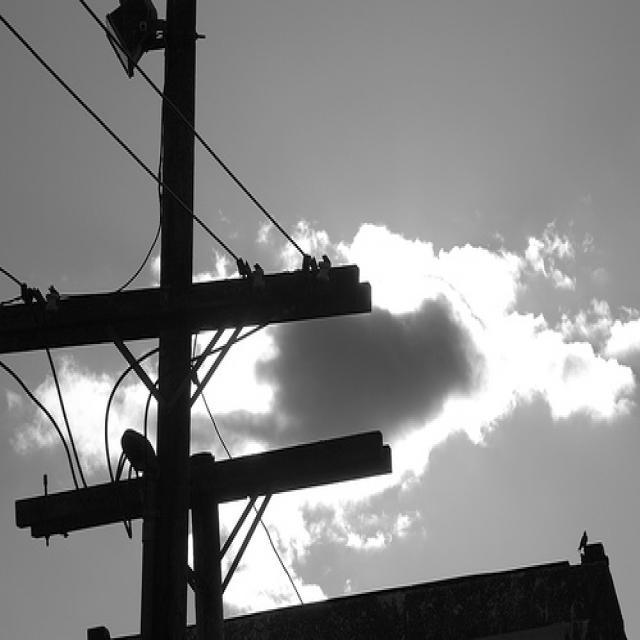crossarm: (8, 425, 392, 544), (0, 257, 369, 360)
pole: (139, 2, 195, 628)
wire: (0, 20, 248, 266), (200, 390, 304, 608), (193, 125, 302, 252), (79, 0, 188, 125), (0, 362, 77, 486), (104, 347, 160, 480), (45, 350, 86, 487), (121, 225, 162, 290), (0, 267, 24, 292)
